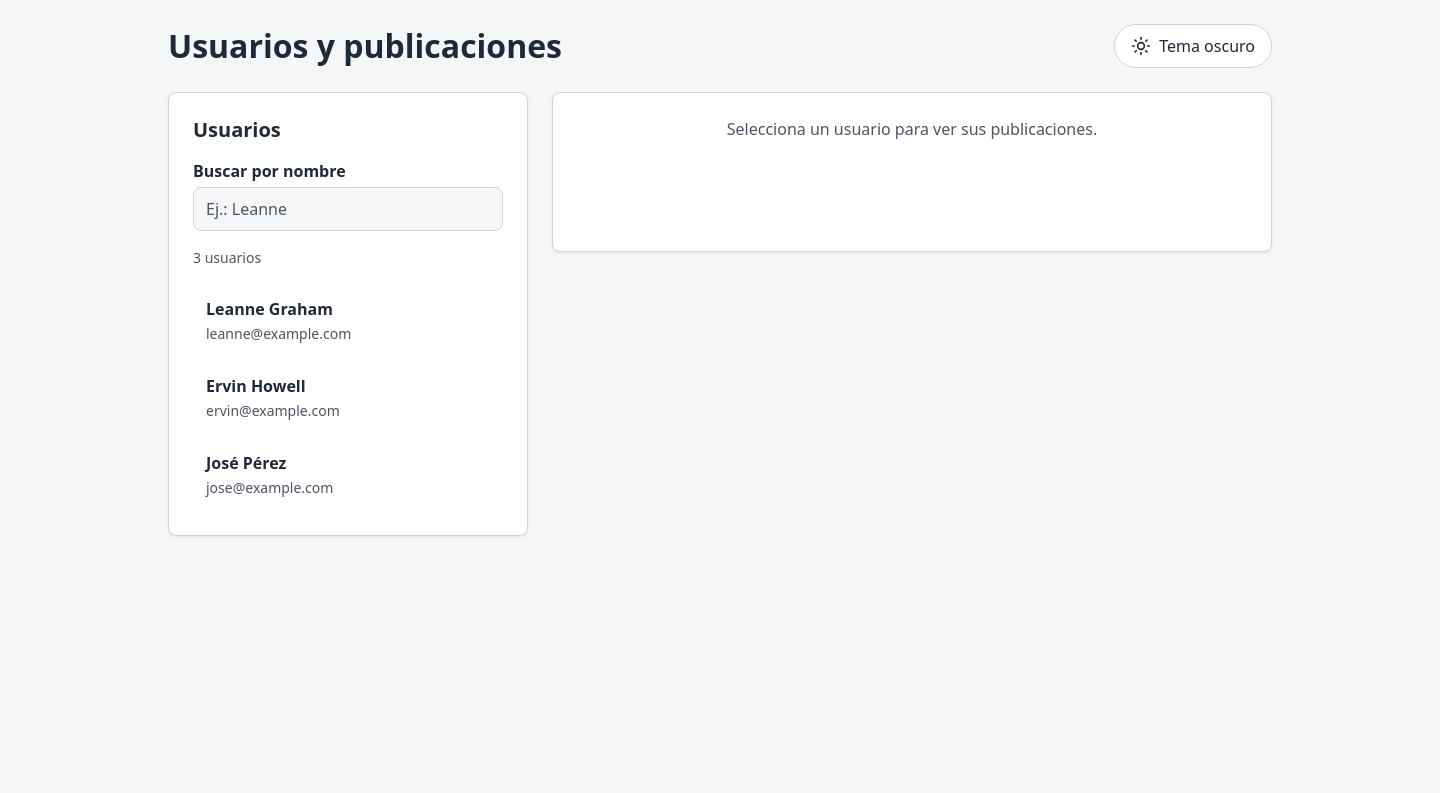
Scenario: Publicaciones › crea una publicación y la muestra la primera de la lista
Click the button "Leanne Graham leanne@example.com". click: click(269, 309)
box: left=193, top=284, right=503, bottom=357
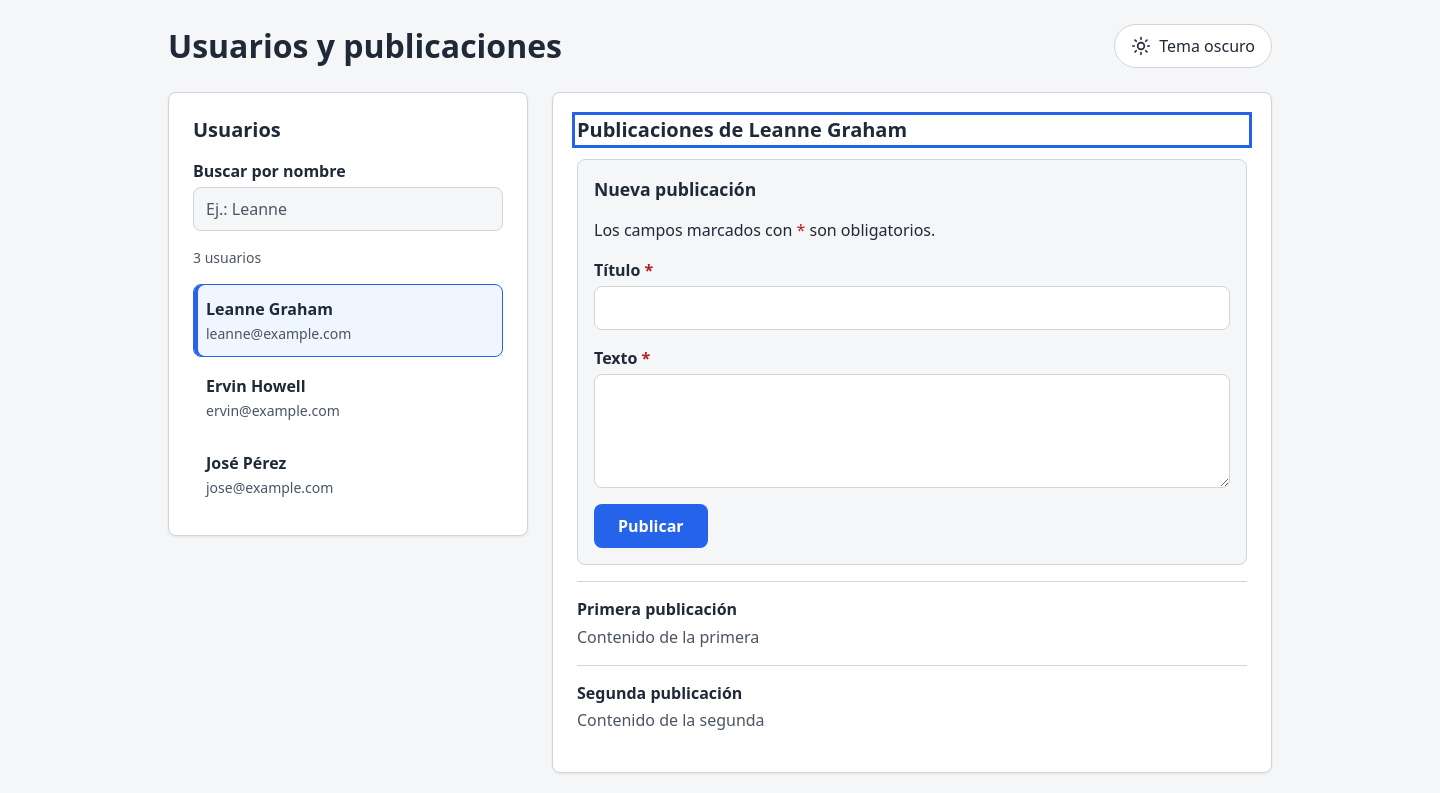
Expected: the form "Nueva publicación" is shown, left=577, top=159, right=1247, bottom=565
Type "Mi nueva publicación" into the field labelled "Título *". click: (912, 308)
box: left=594, top=286, right=1230, bottom=330
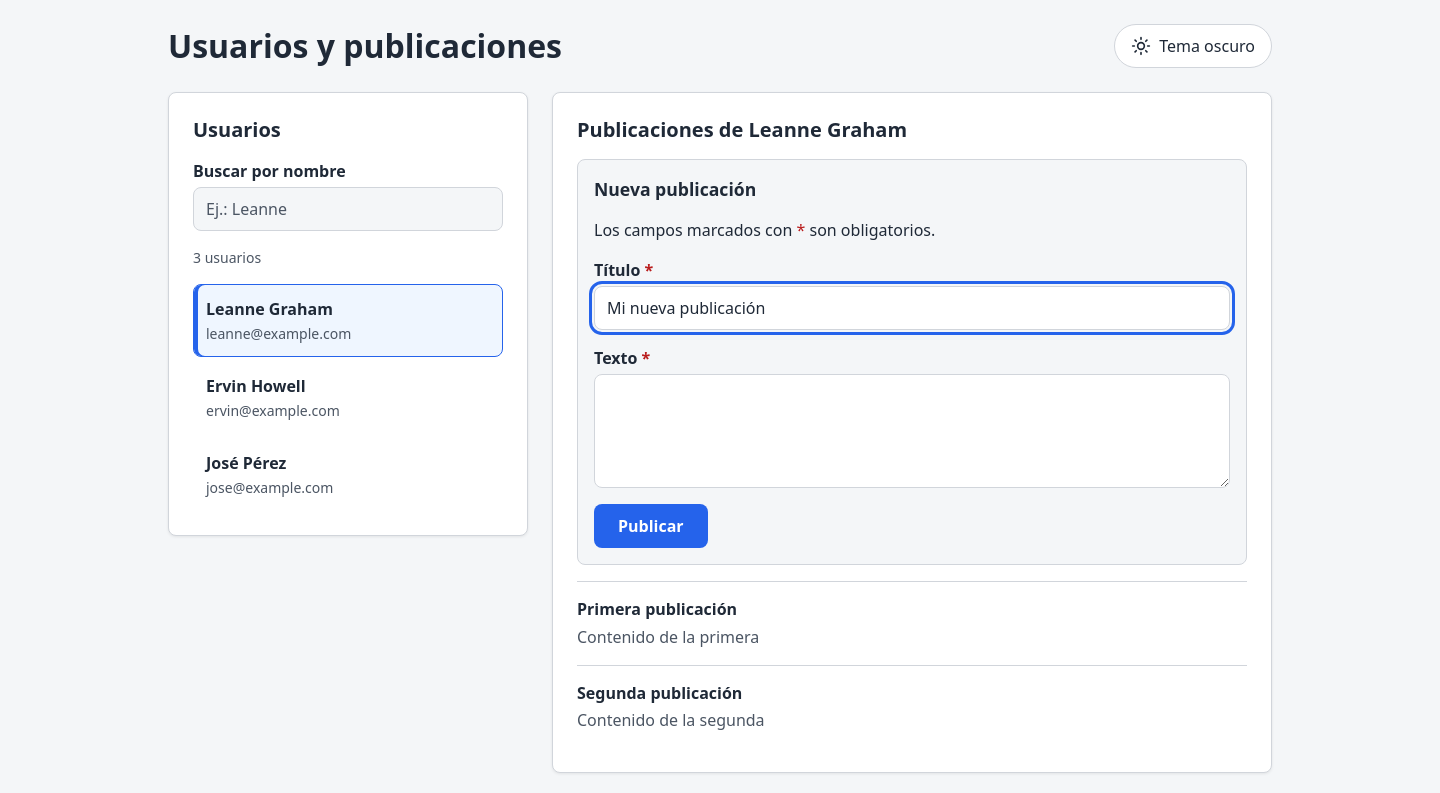
Type "Contenido nuevo" into the text box labelled "Texto *". click: (912, 431)
box: left=594, top=374, right=1230, bottom=488
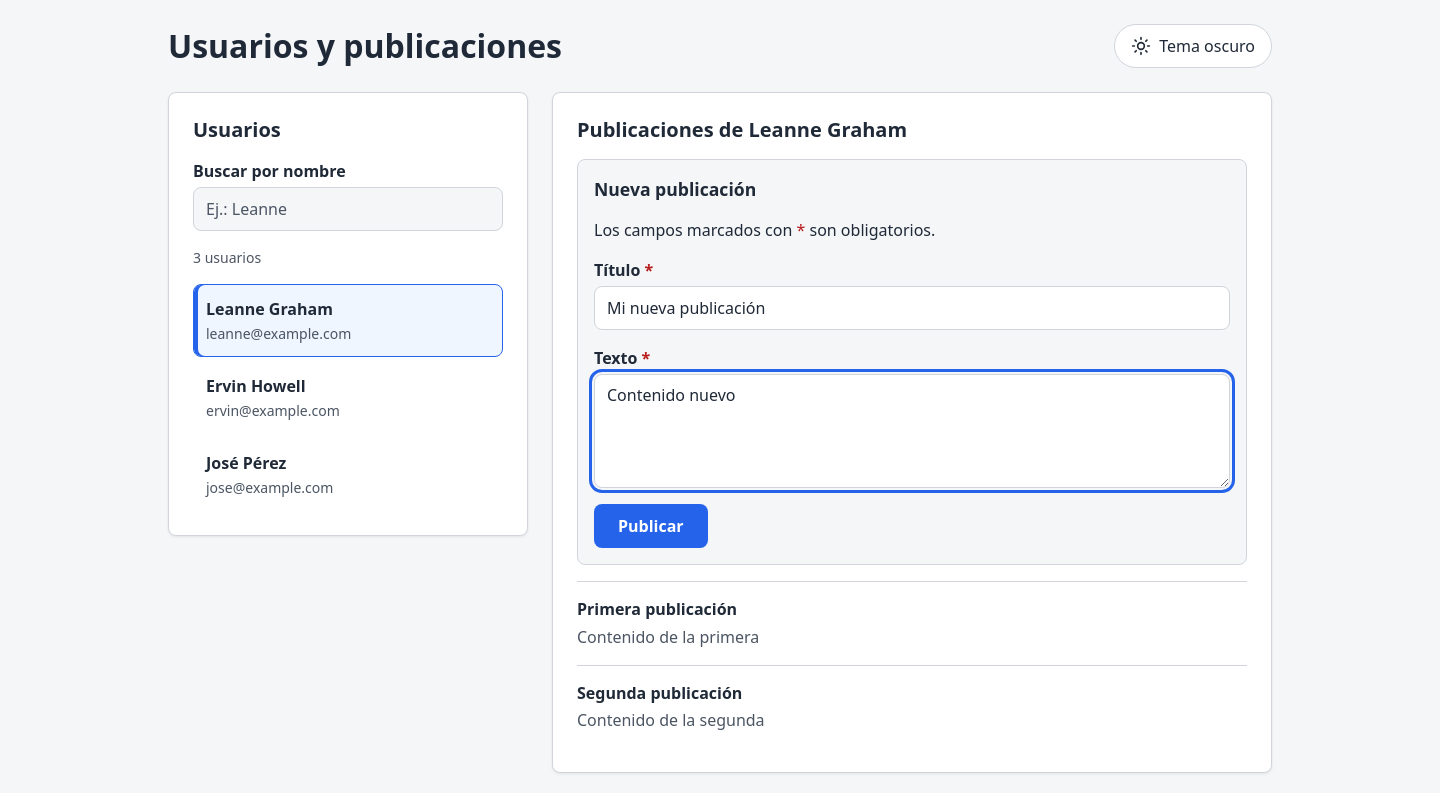
Click the button "Publicar". click: click(651, 526)
box: left=594, top=504, right=708, bottom=548
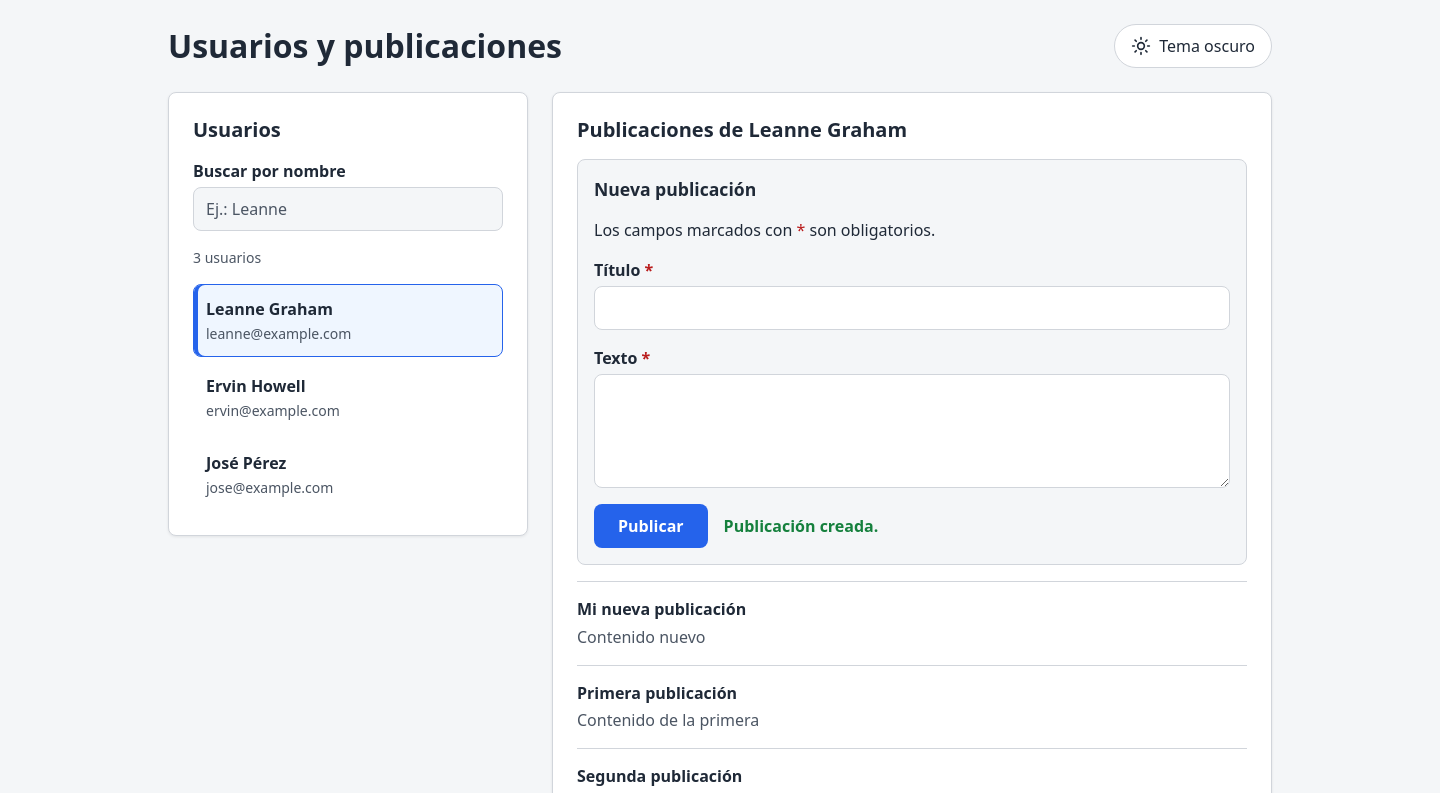
Expected: the text "Publicación creada." is shown, left=724, top=514, right=878, bottom=538
Expected: the heading "Mi nueva publicación" is shown, left=577, top=598, right=746, bottom=620
Expected: the field labelled "Título *" is empty, left=594, top=286, right=1230, bottom=330
